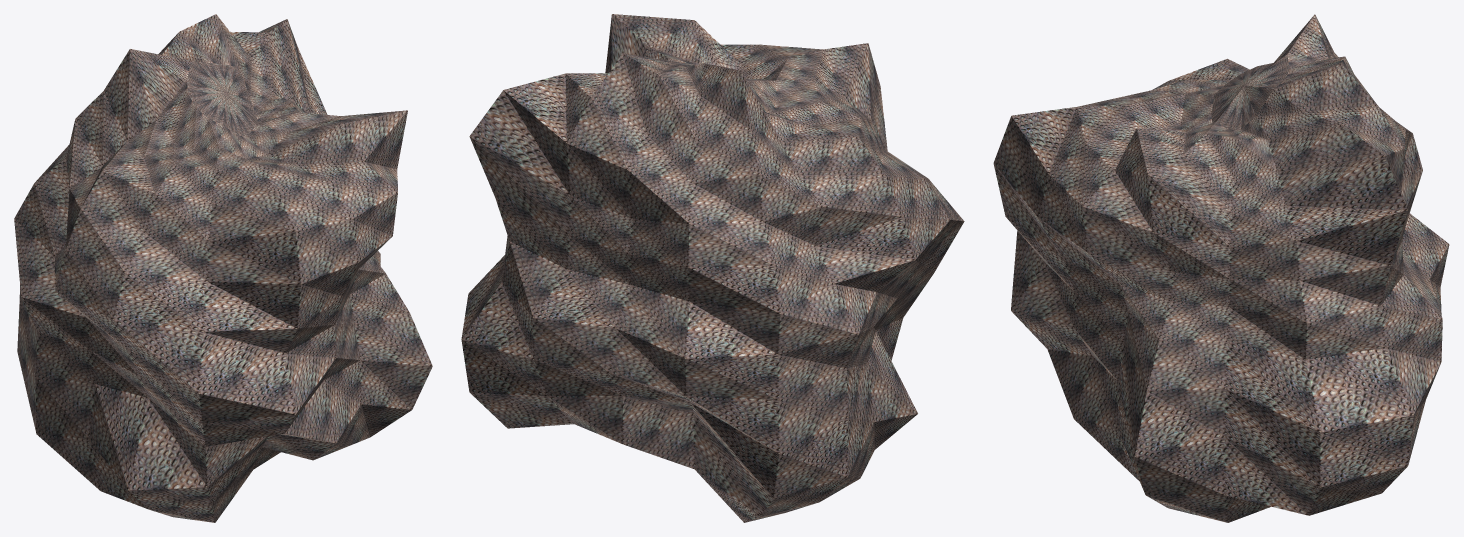
Rendered from coral004b.obj.
3 renders of one model, left to right at view 1: azimuth 30°, elevation 25°; view 2: azimuth 150°, elevation 25°; view 3: azimuth 270°, elevation 25°, orthographic. The views are drawn at different scales.
Parts seen in each view (by area): view 1: Landscape; view 2: Landscape; view 3: Landscape.
Part boxes in pixels (x1=…): Landscape: x1=14, y1=14, x2=432, y2=522; Landscape: x1=461, y1=14, x2=964, y2=522; Landscape: x1=993, y1=14, x2=1449, y2=522.
Bounding box in the file's own units: 6.67 × 7.23 × 6.64.
1 material, 1 textured.
